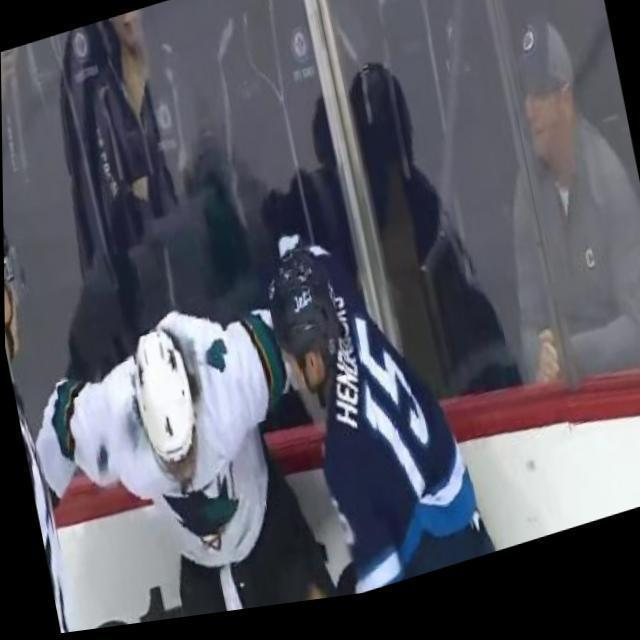fight: (16, 214, 474, 639)
